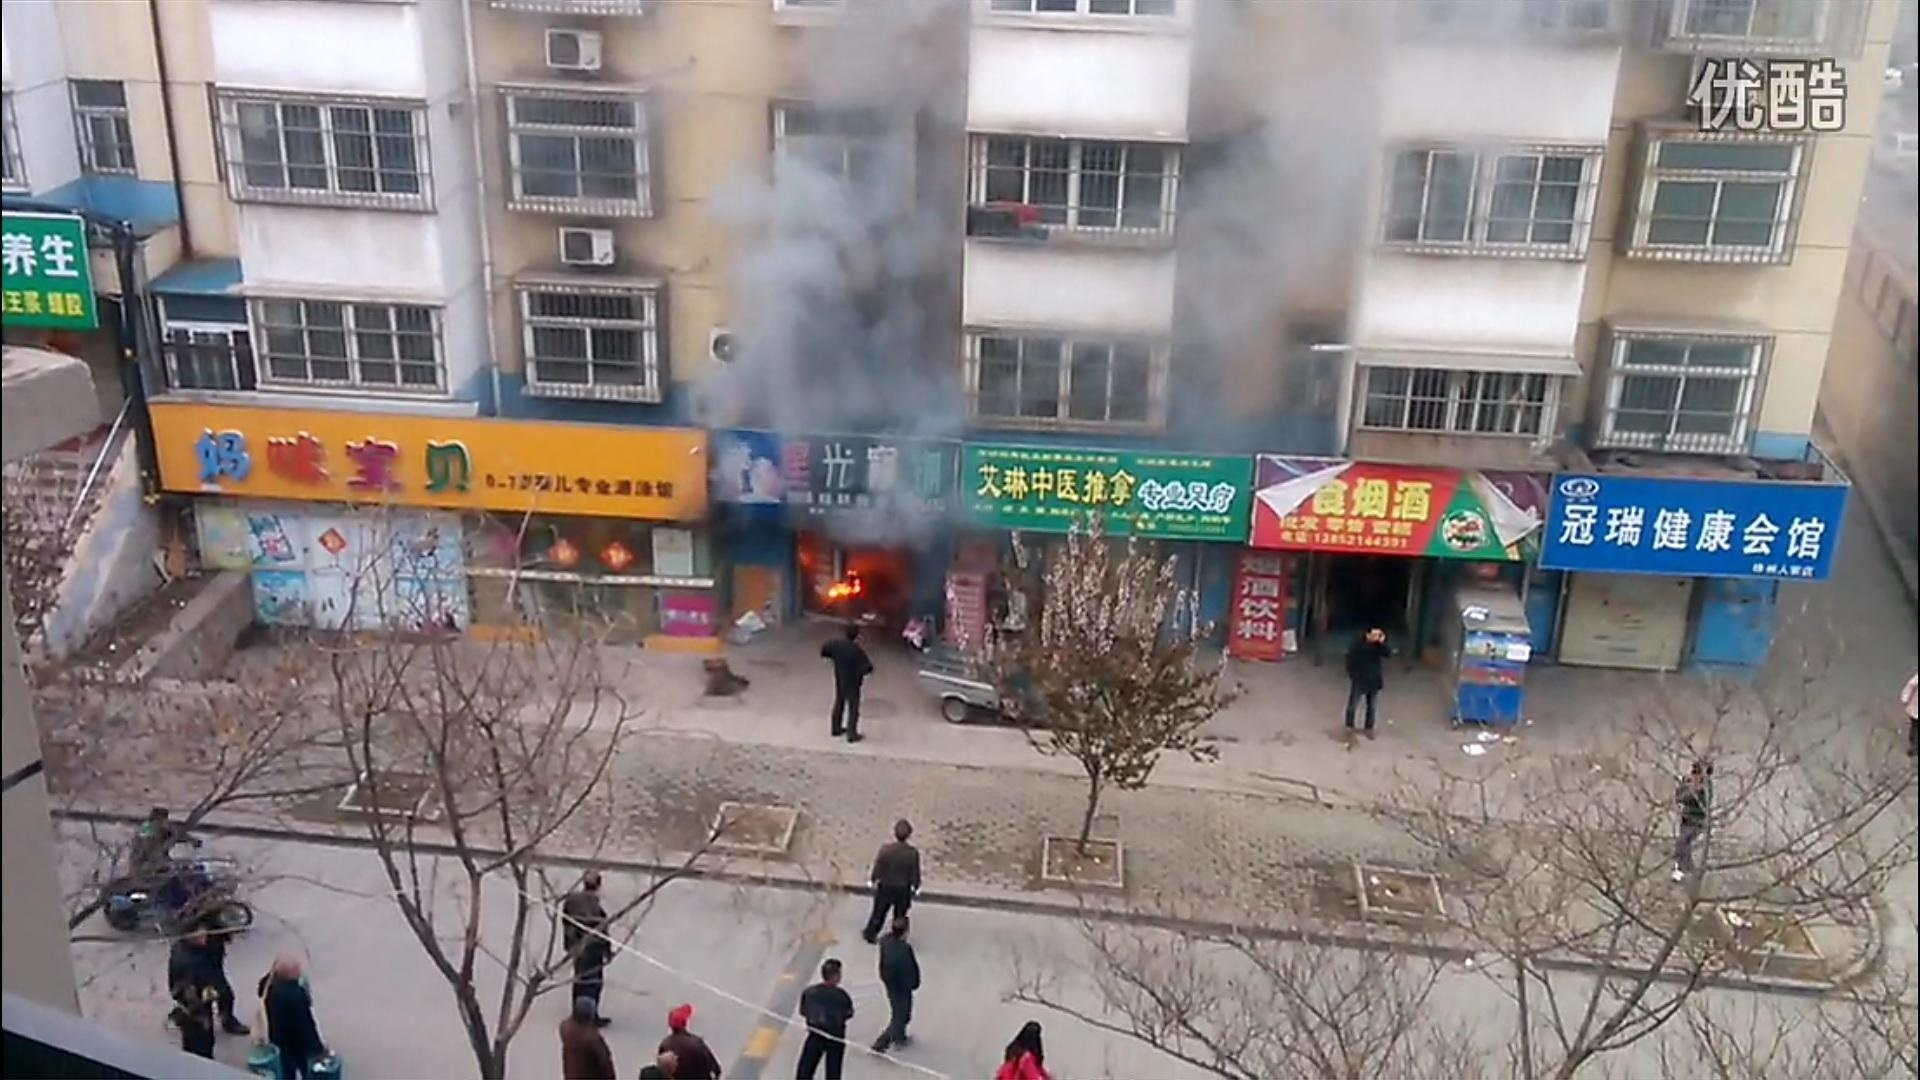fire: (798, 542, 873, 604)
